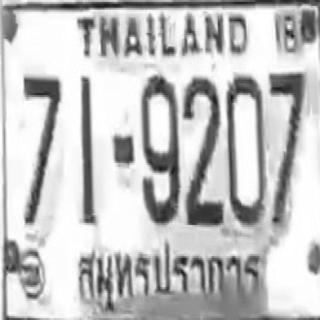N00: (226, 74, 266, 227)
N01: (80, 76, 96, 225)
N02: (183, 75, 221, 221)
N07: (22, 73, 61, 226), (268, 71, 305, 230), (268, 71, 306, 187), (268, 71, 305, 176)
N09: (141, 74, 179, 225)
P57: (72, 237, 271, 314)
